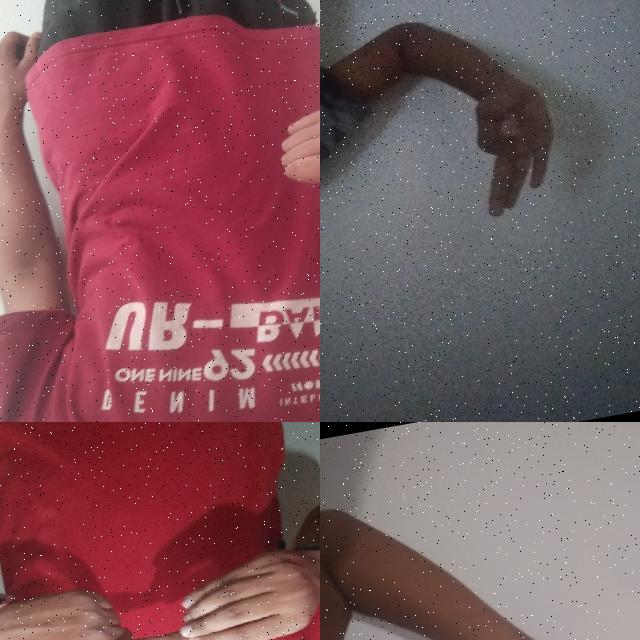Five Fathers: (0, 525, 320, 640)
Okay: (451, 50, 581, 224)
Thumbs Up: (267, 87, 320, 258)
